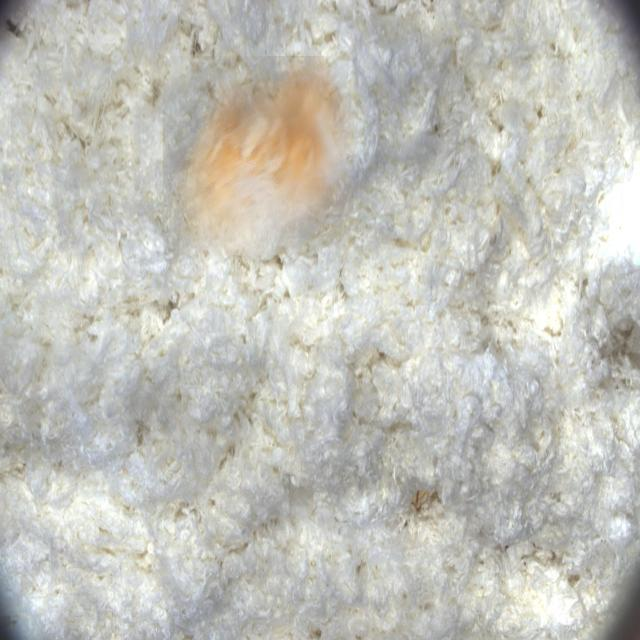dust: (163, 56, 354, 255)
